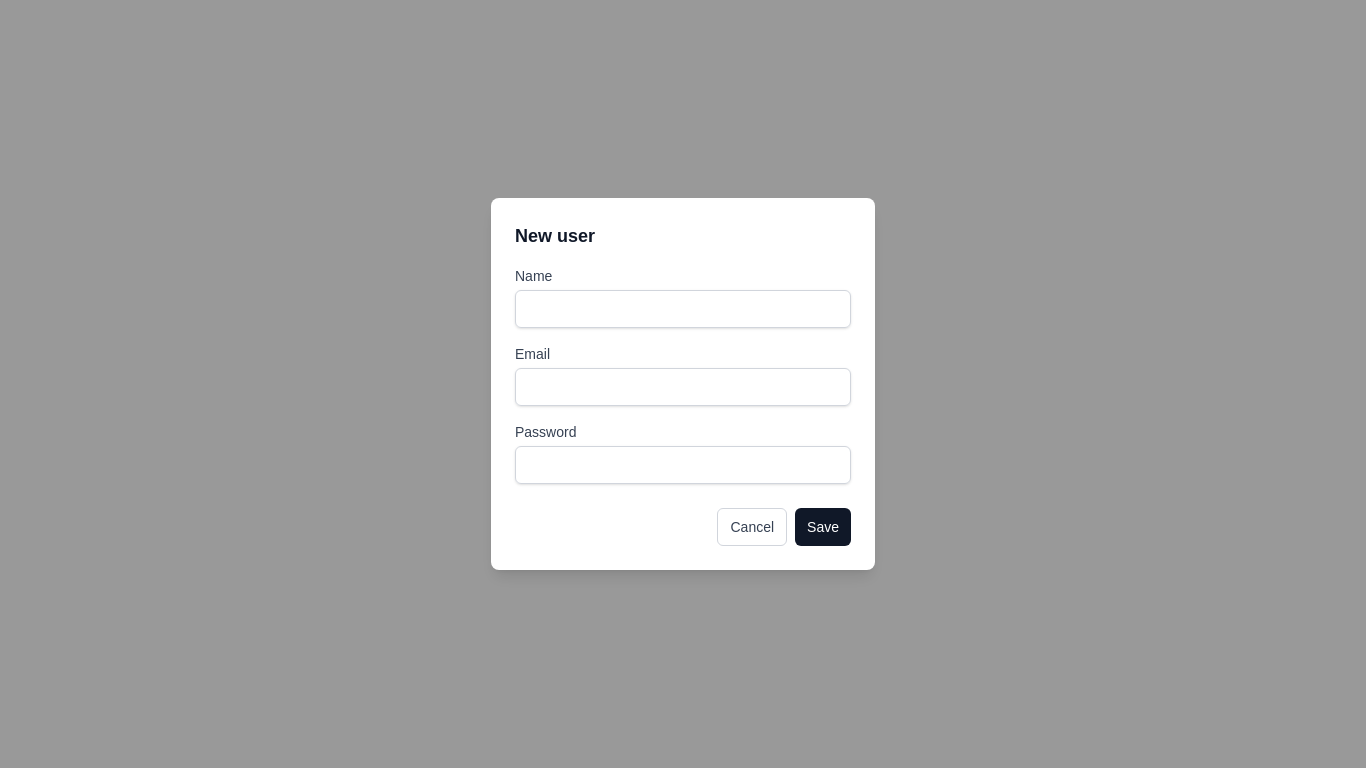
shows the API error message on failure
This screenshot has width=1366, height=768.
In the field labelled "Name": (683,309) [515, 290, 851, 328], type "Grace Hopper"
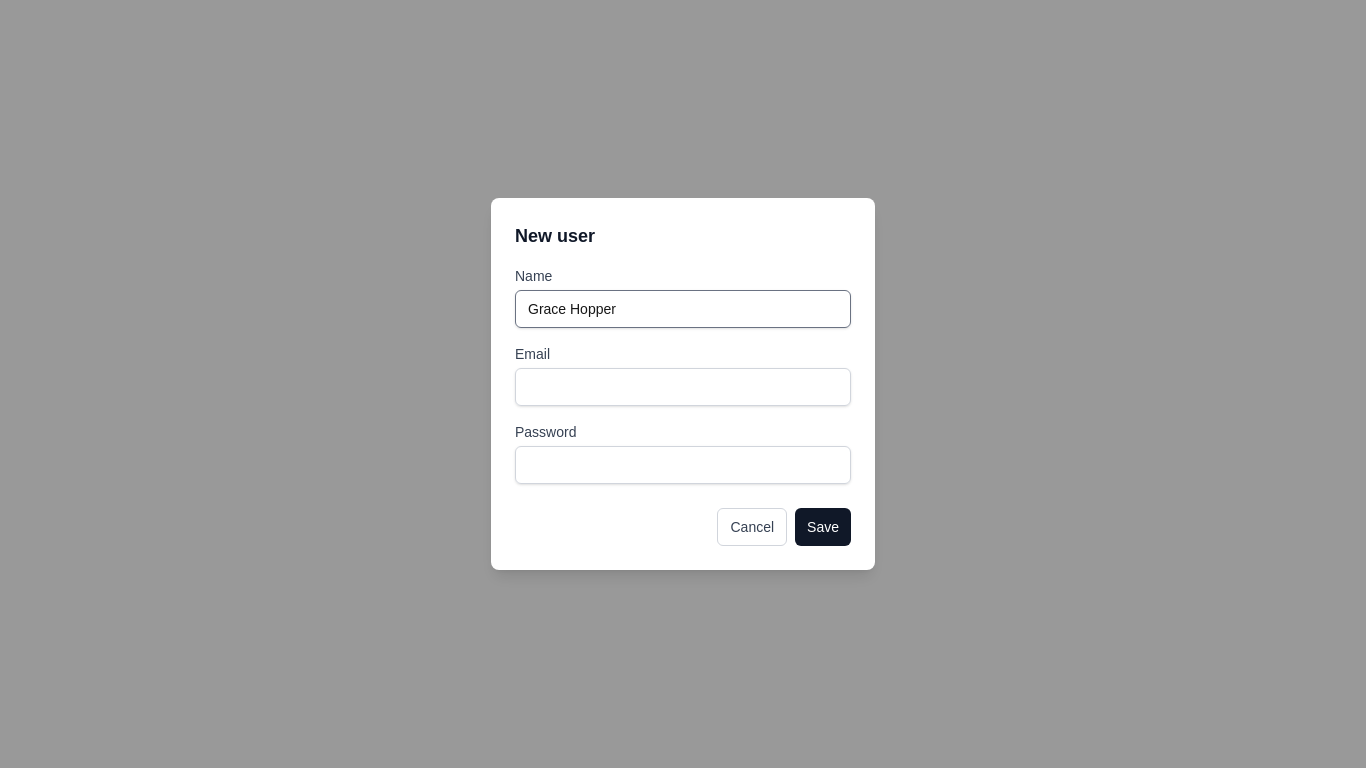
In the field labelled "Email": (683,387) [515, 368, 851, 406], type "grace@example.com"
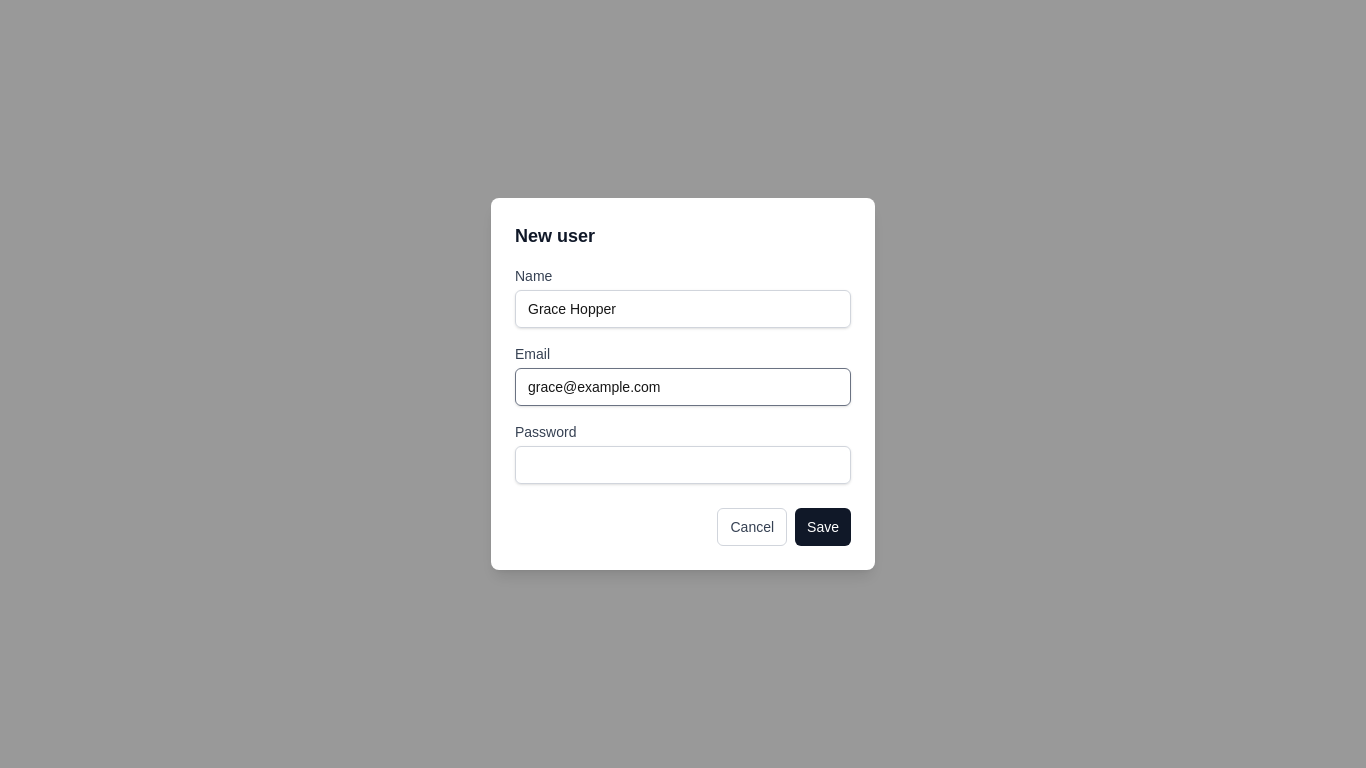
In the password field labelled "Password": (683,465) [515, 446, 851, 484], type "grace-password"
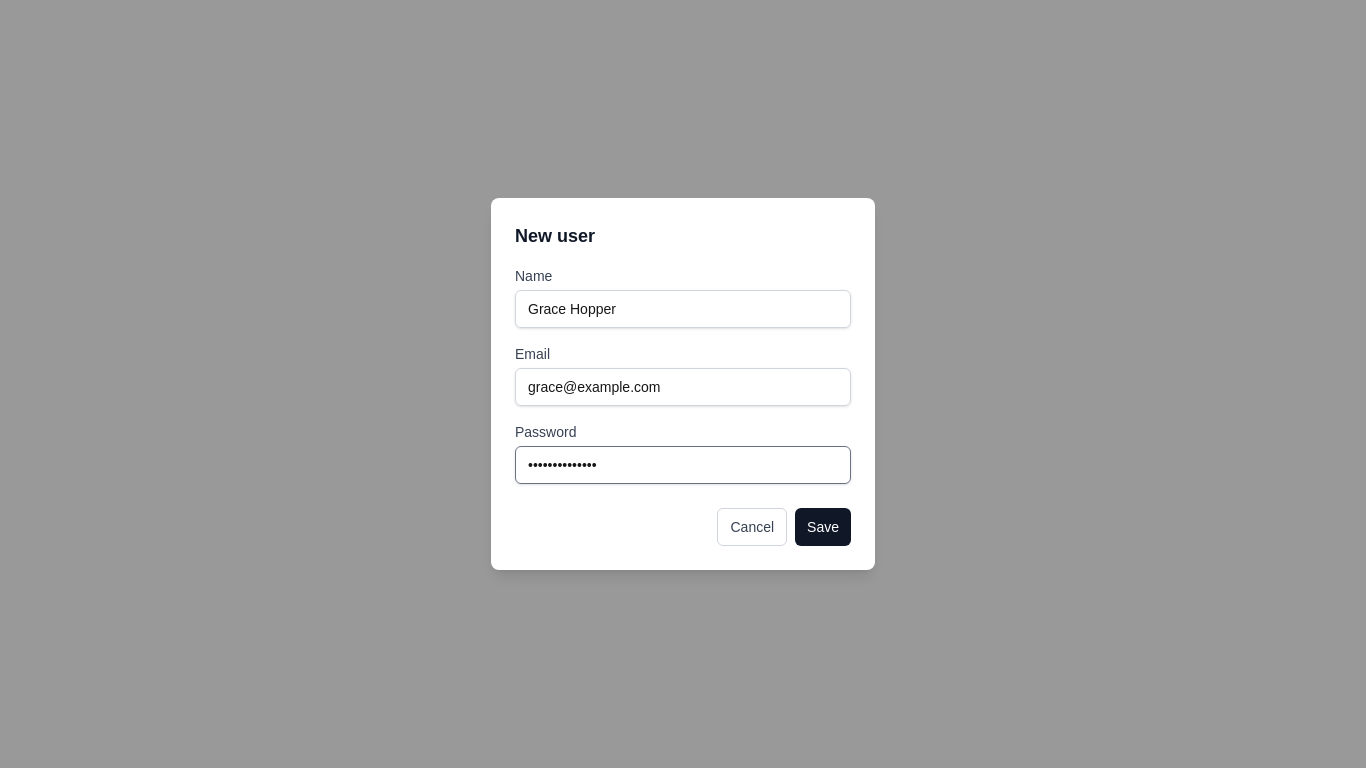
Click the button "Save": (823,527) [795, 508, 851, 546]
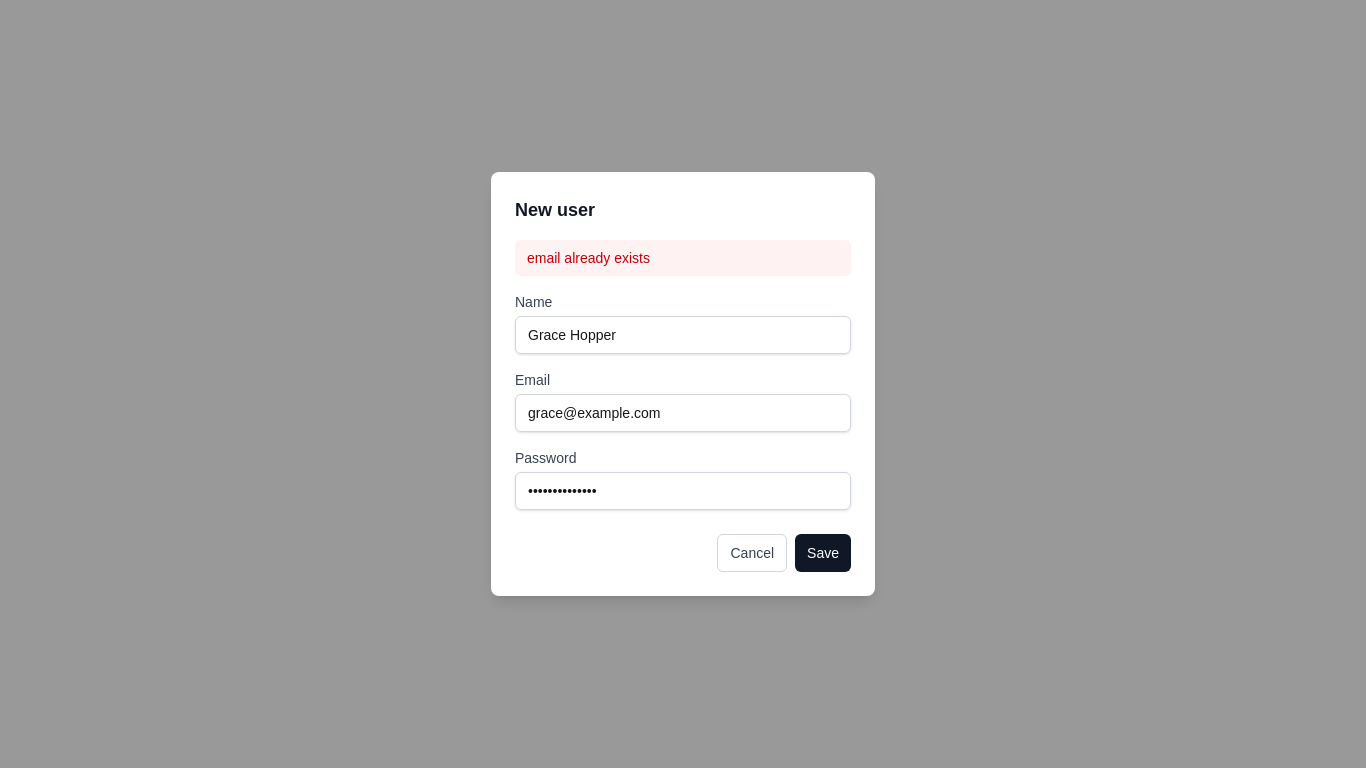
Expected: the message reads "email already exists", [527, 250, 650, 266]
